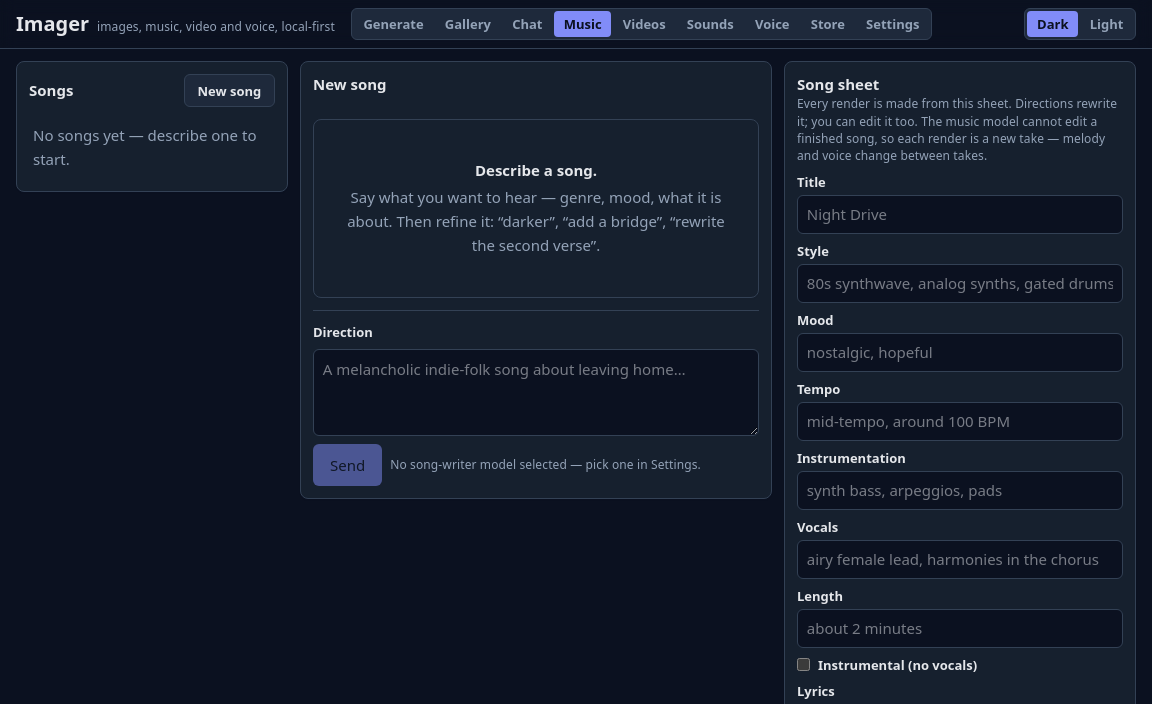
it: Render renders a hand-filled sheet directly, without the writer
Type "lofi hip hop" into the field labelled "Style" at coordinates (960, 283), box top-left (797, 264), bottom-right (1123, 303)
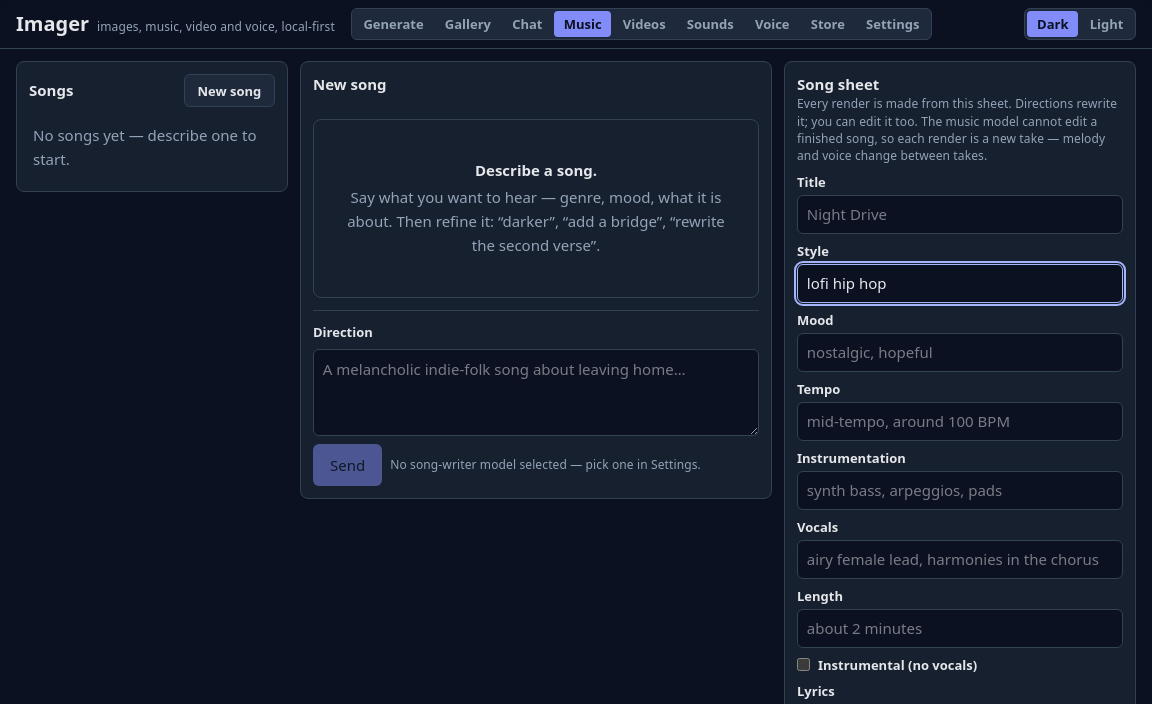
Click the checkbox labelled "Instrumental (no vocals)" at coordinates (804, 665), box top-left (797, 658), bottom-right (810, 671)
(page scrolled)
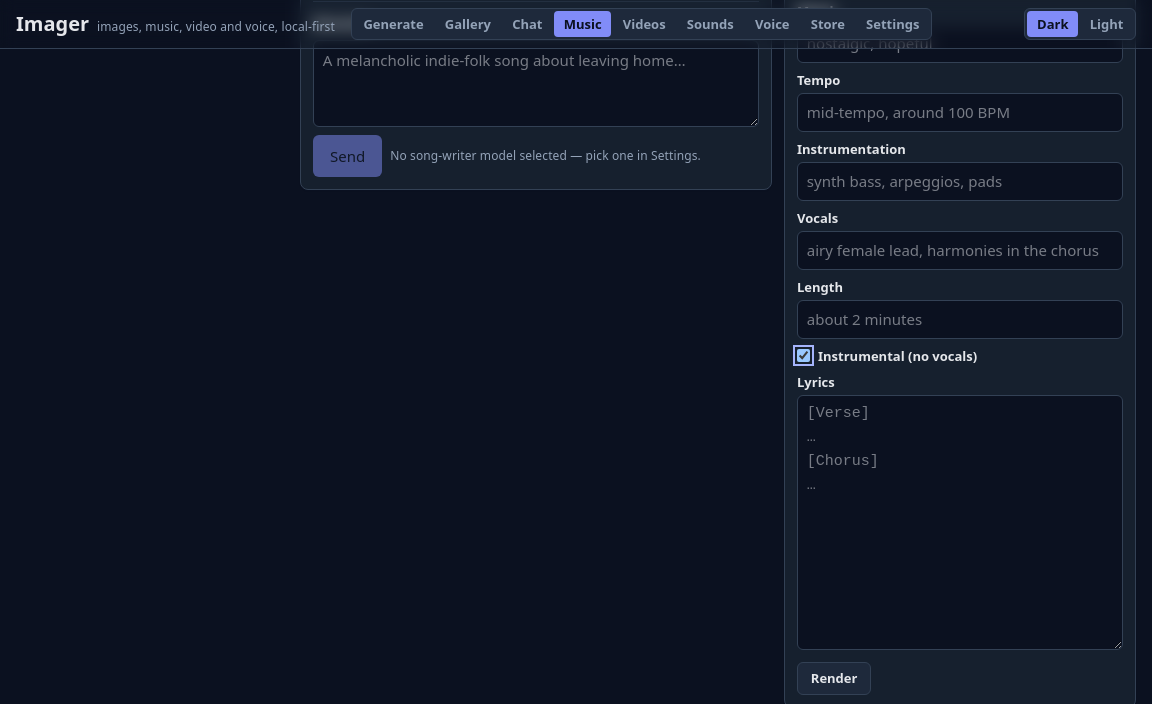
Click the button "Render" at coordinates (834, 678), box top-left (797, 662), bottom-right (871, 695)
(page scrolled)
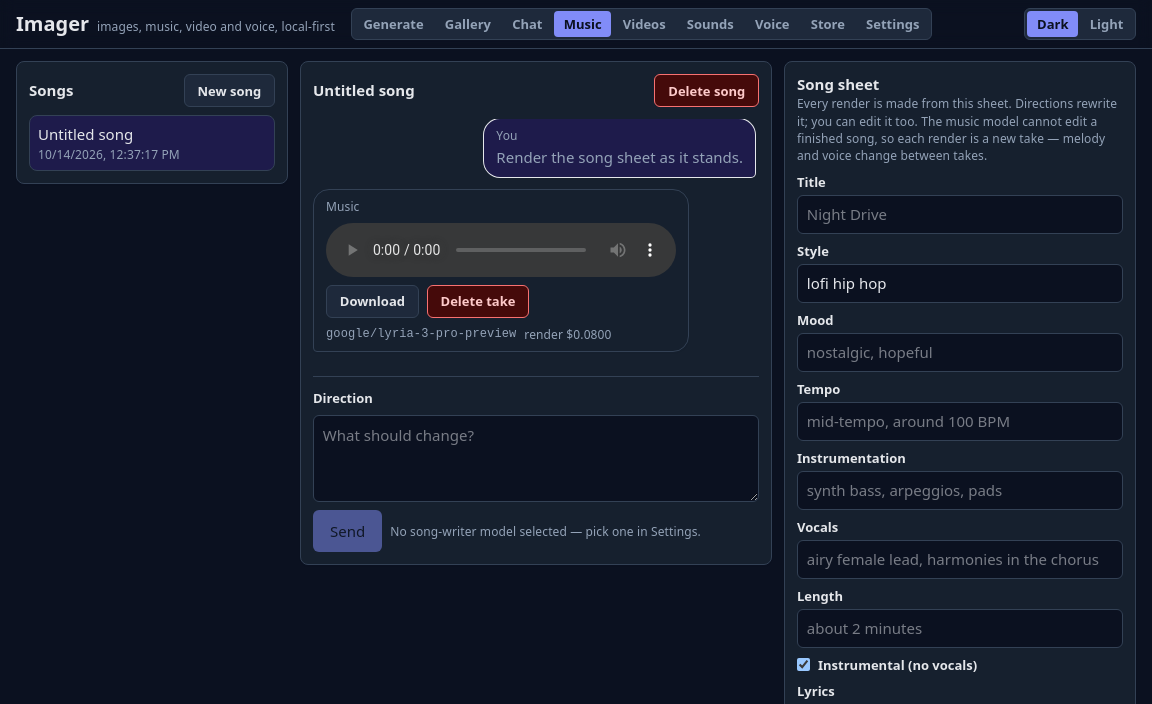
expect the element named "Play " is shown: met, box top-left (326, 223), bottom-right (676, 277)
